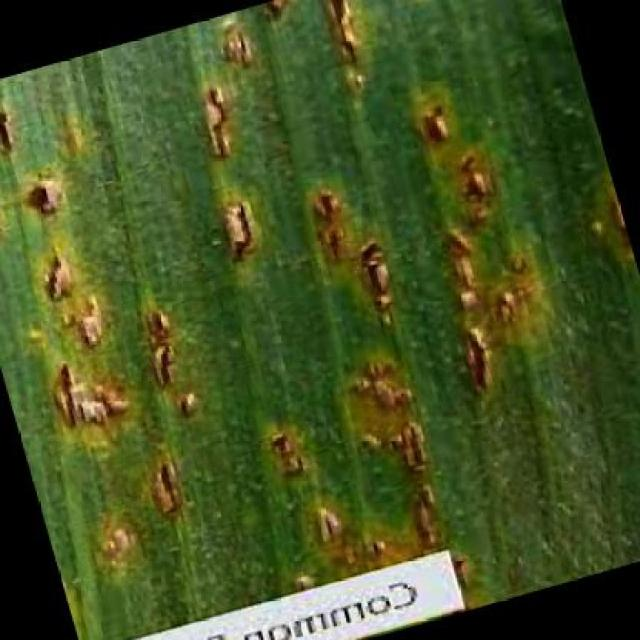Corn_Rust: (61, 63, 574, 546)
